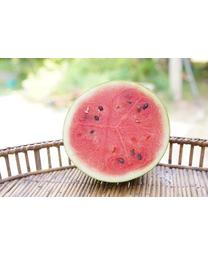watermelon: (59, 79, 169, 185)
